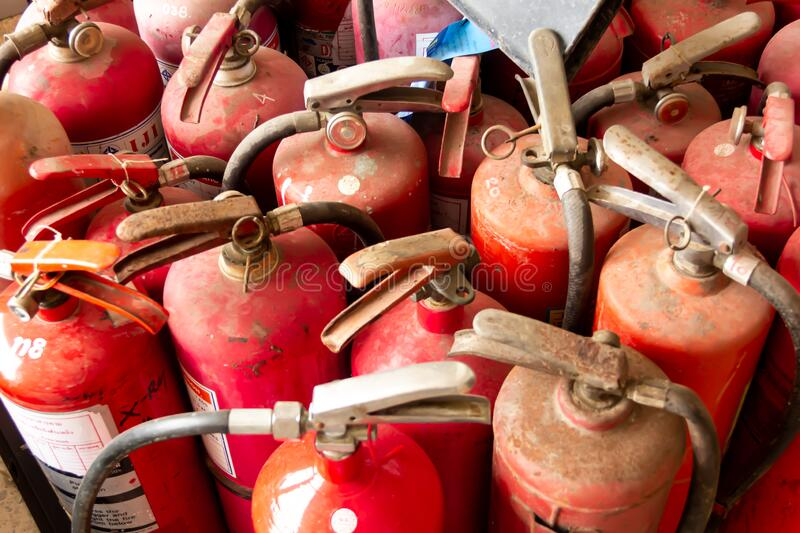fire_extinguisher: (0, 1, 800, 532)
